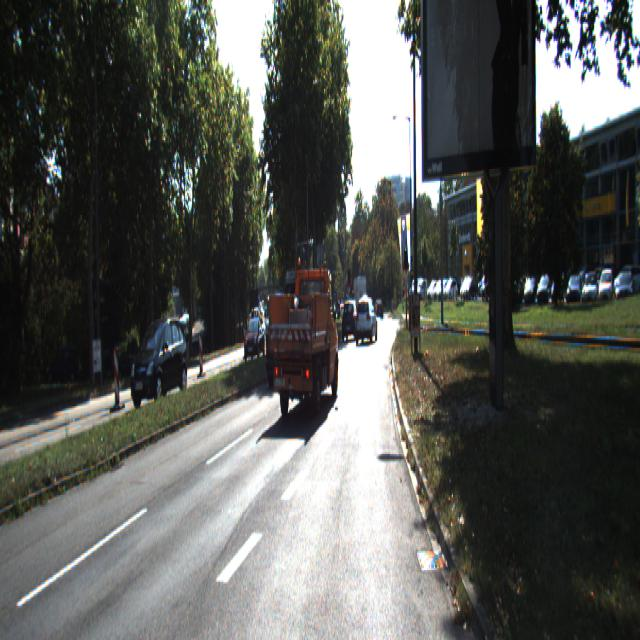Car: (266, 257, 341, 417), (130, 313, 189, 407), (265, 310, 309, 381), (265, 290, 286, 348), (355, 298, 377, 346), (244, 315, 264, 361), (342, 300, 361, 340)
